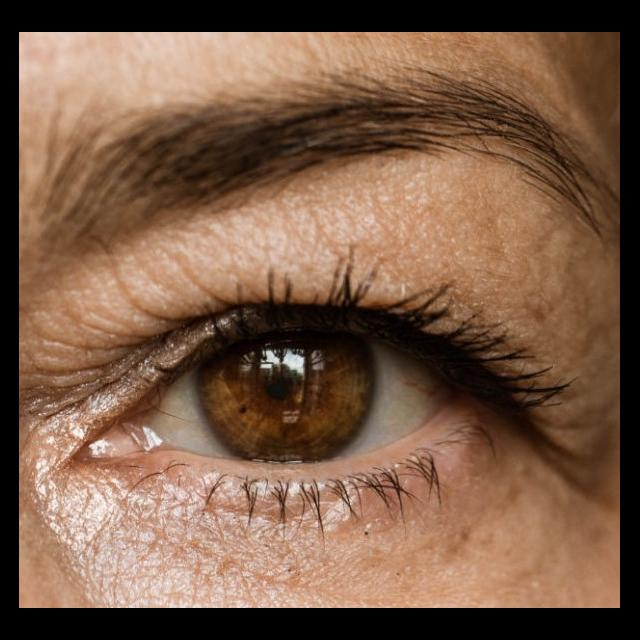eye: (139, 330, 474, 470)
iris: (197, 341, 379, 462)
